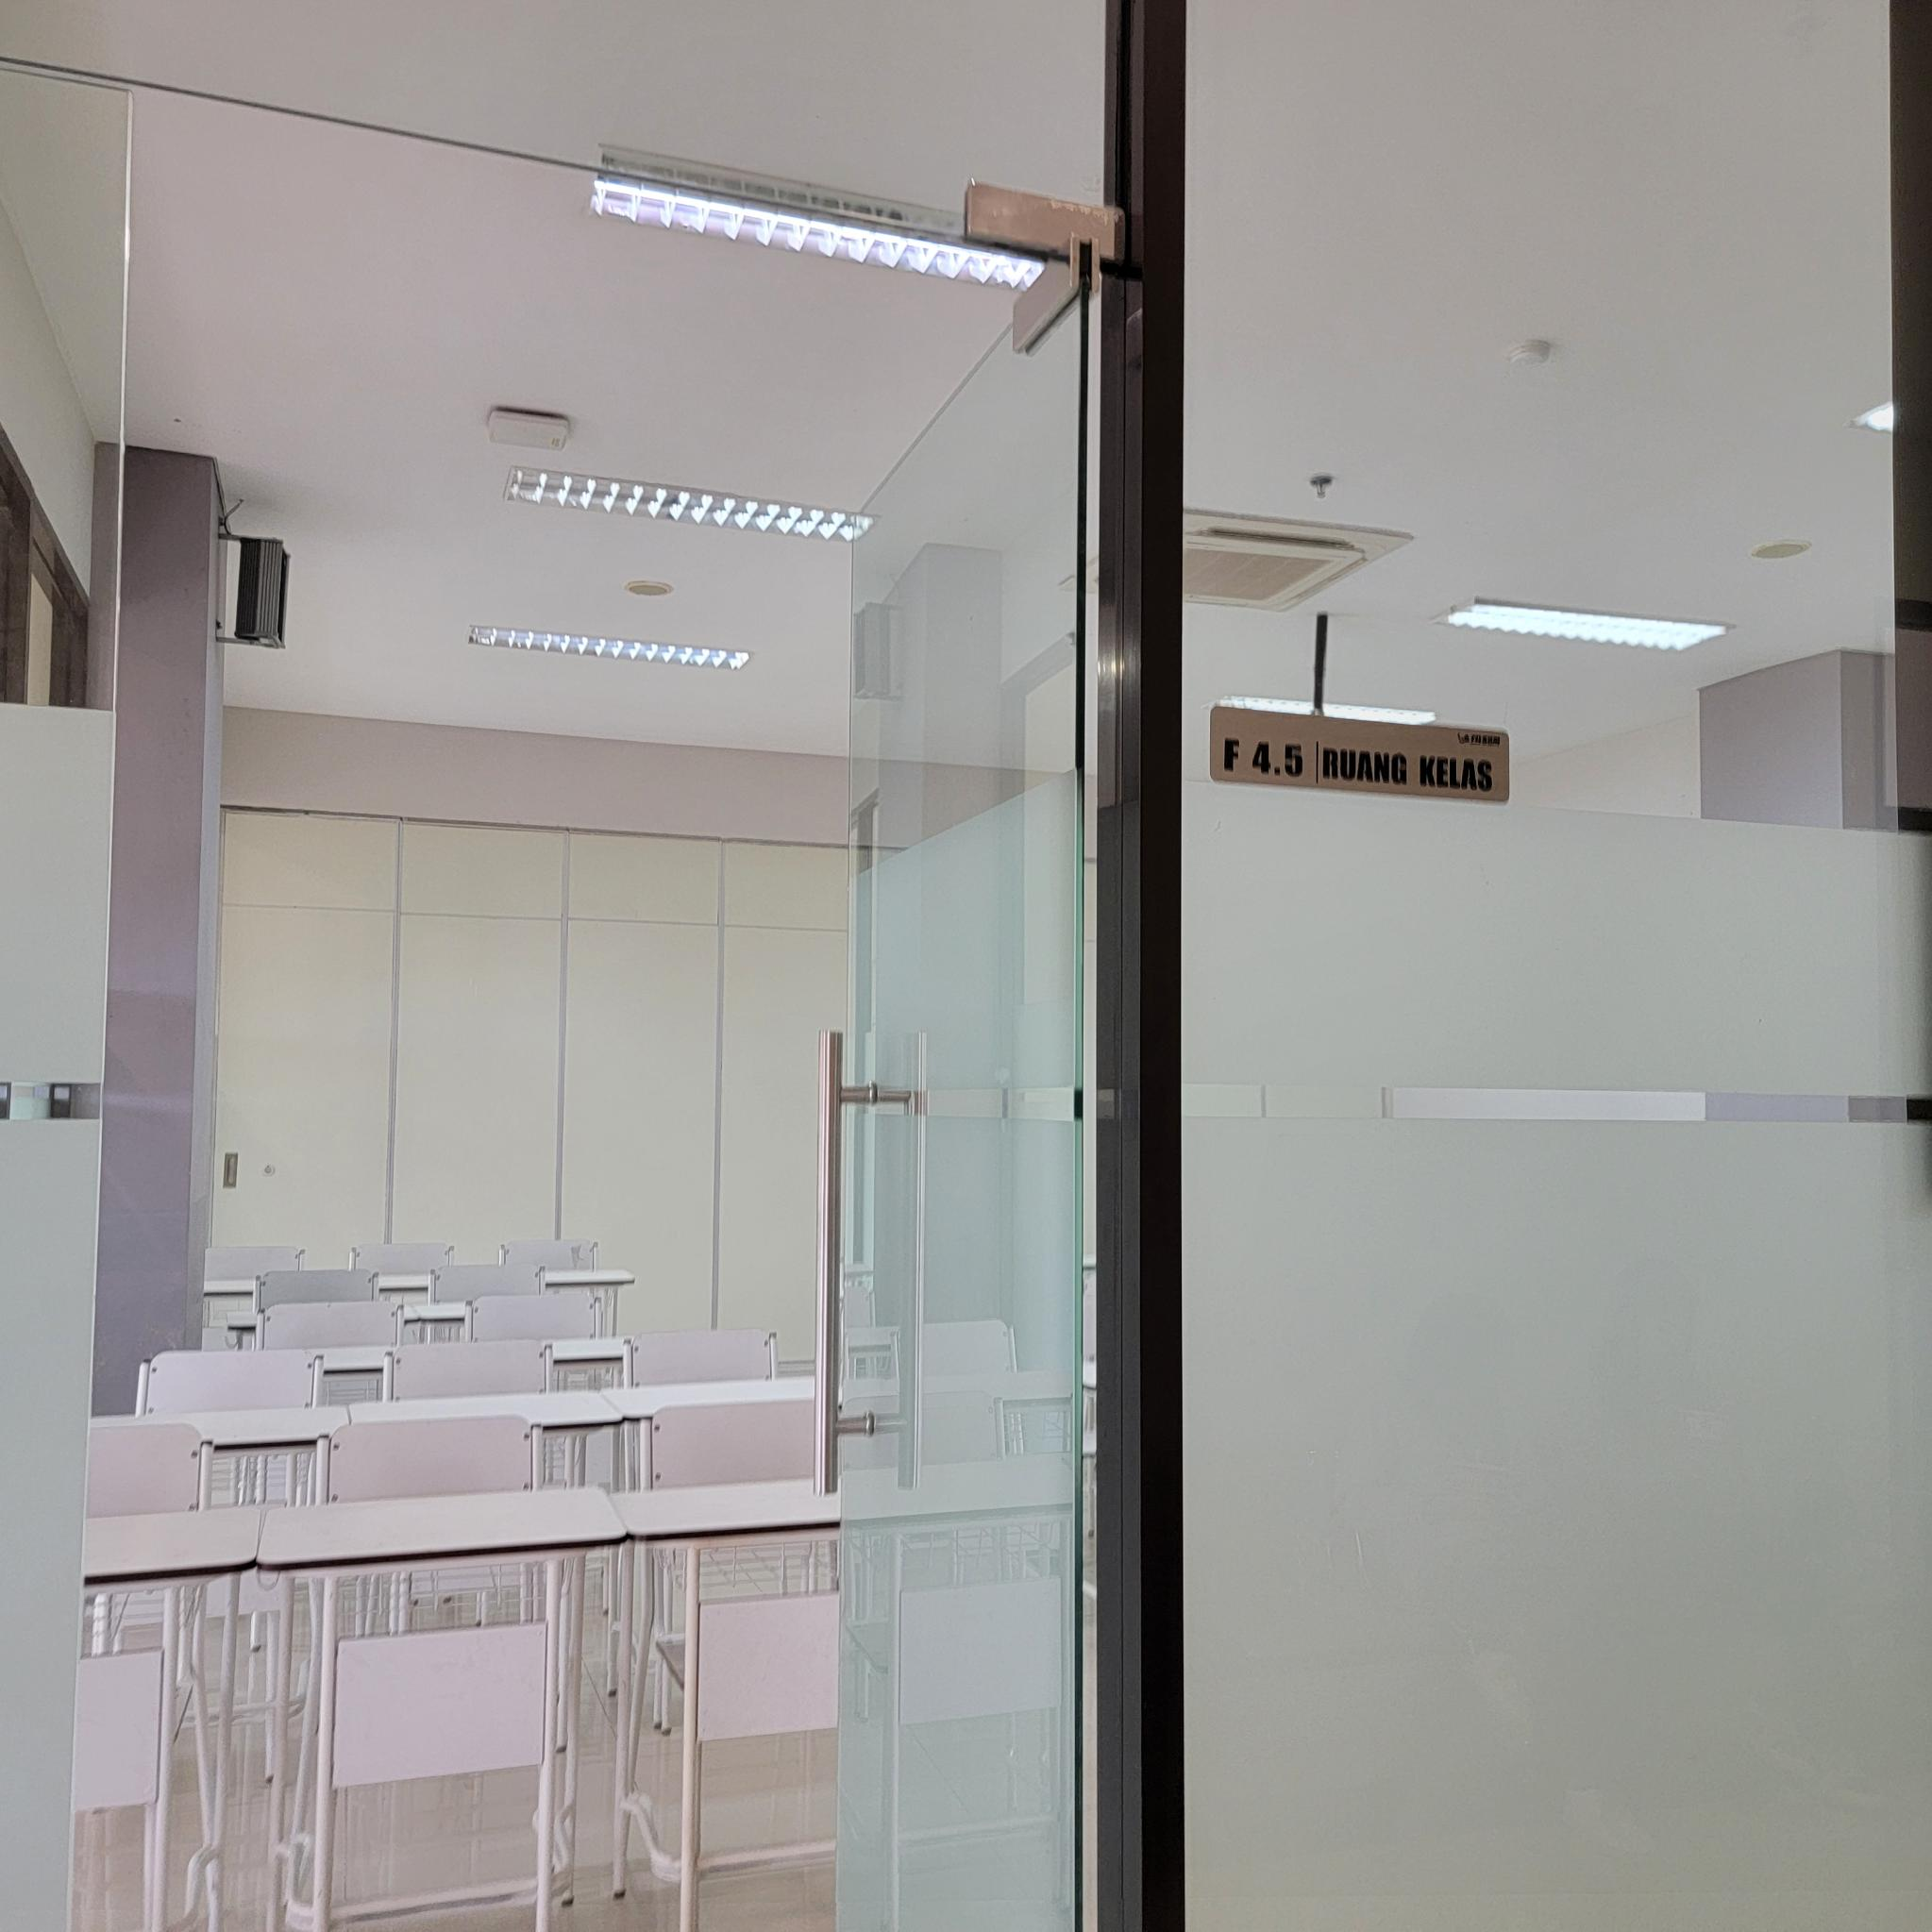plate: (1207, 706, 1509, 801)
